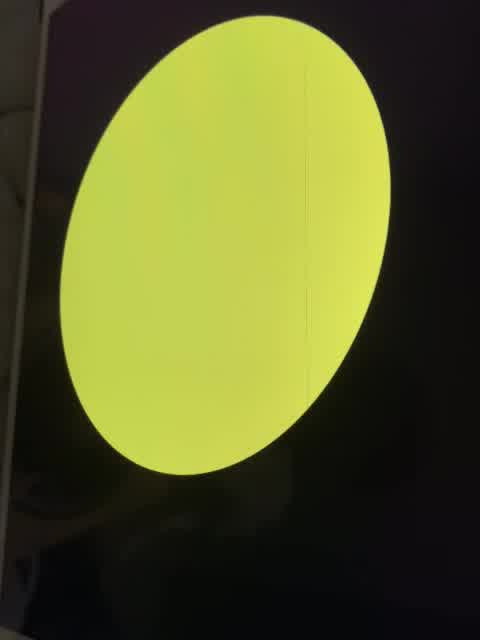left: (54, 9, 402, 483)
